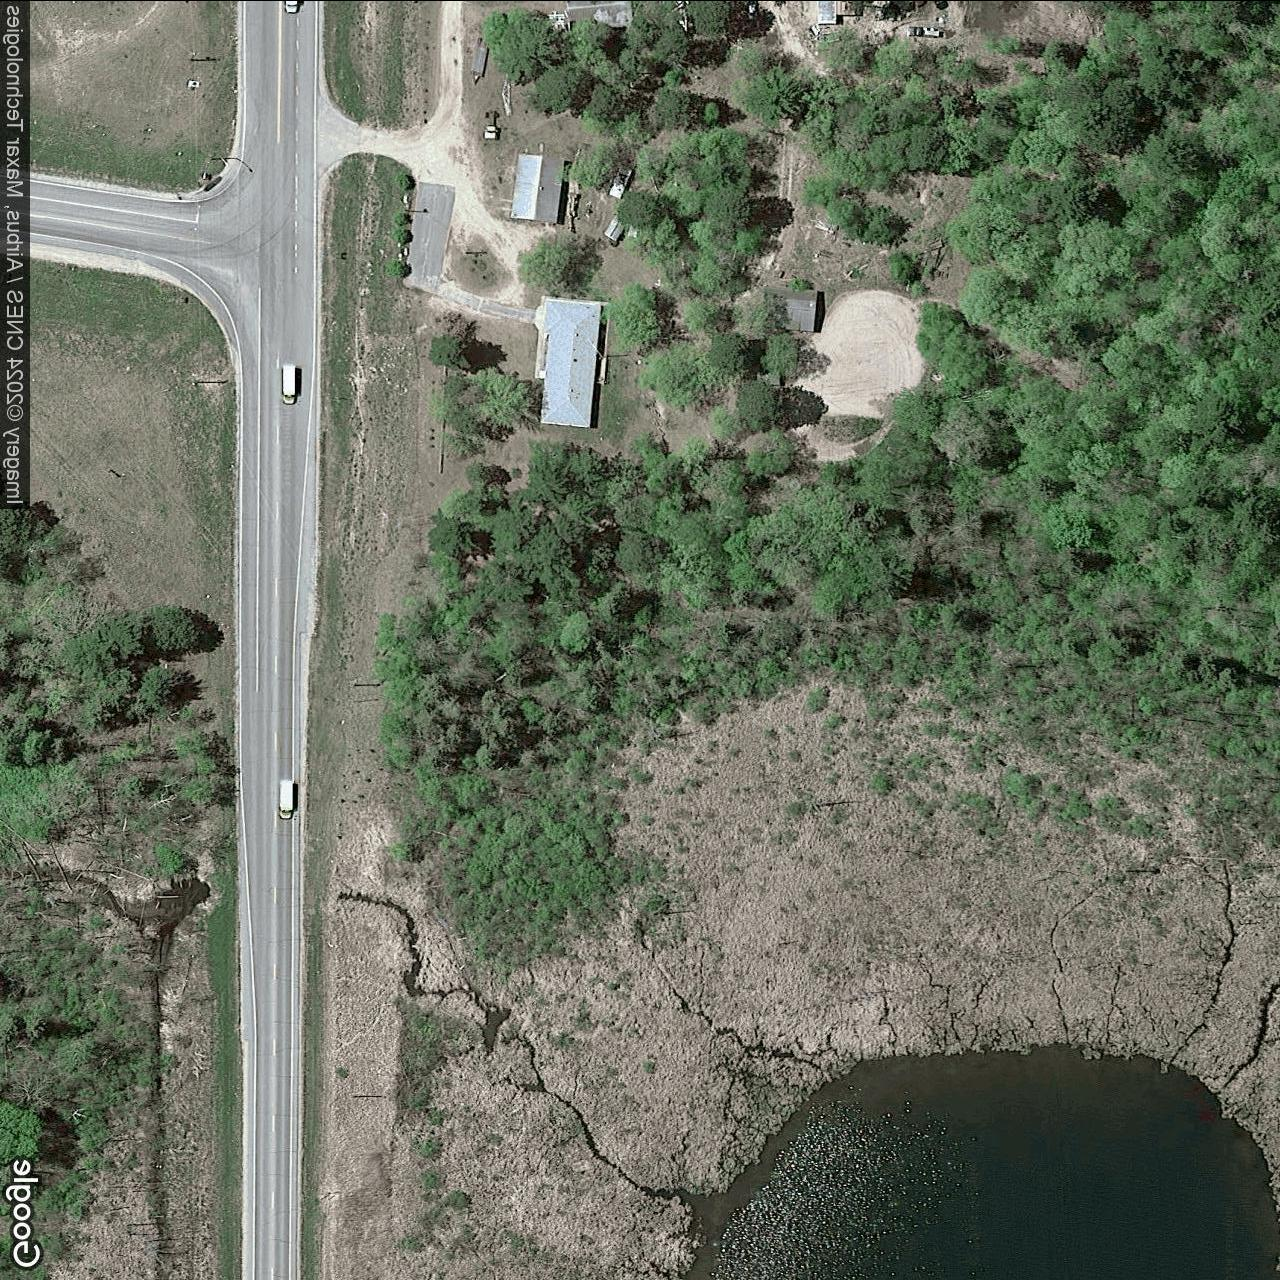Garage: (509, 150, 565, 224)
House: (540, 297, 602, 429), (761, 284, 818, 332)
